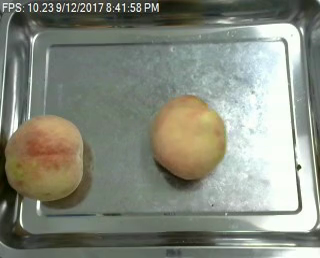Peach: (3, 114, 86, 203), (151, 94, 227, 180)
